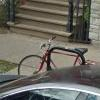Bicycle: (17, 36, 89, 74)
